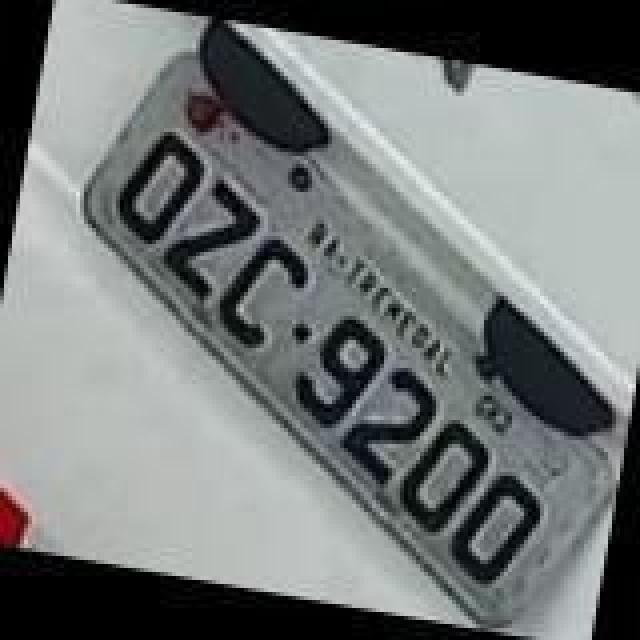2: (332, 358, 444, 498)
9: (282, 304, 398, 440)
C: (210, 230, 310, 362)
O: (384, 402, 496, 542), (442, 462, 550, 594), (102, 124, 210, 252)
Z: (154, 172, 262, 308)
